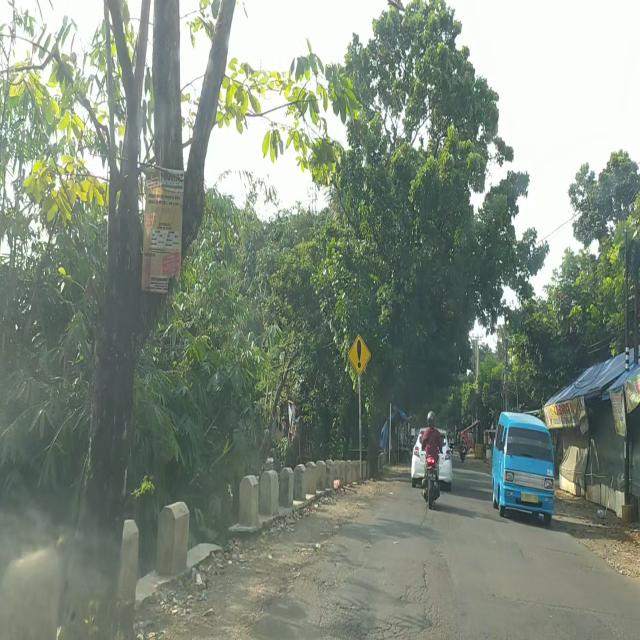Drain Hole: (318, 558, 435, 640)
